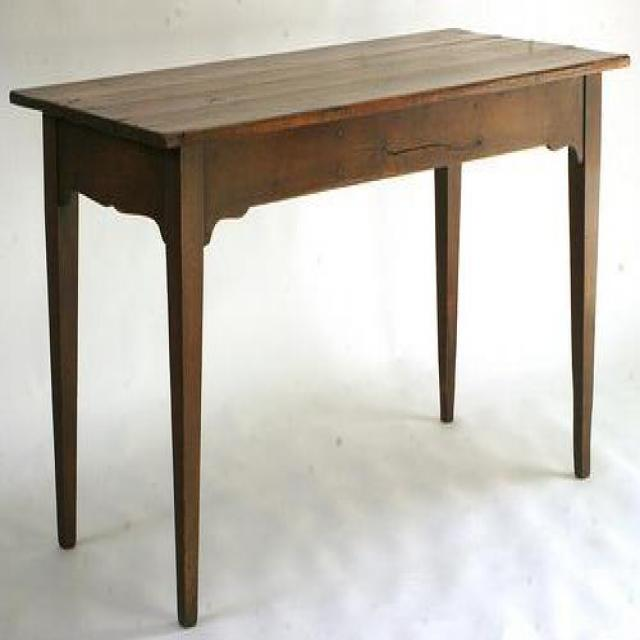Table: (6, 17, 635, 640)
